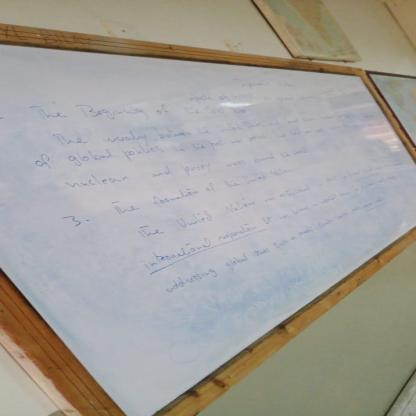Handwritten text: (147, 195, 341, 311), (128, 184, 320, 281), (125, 169, 323, 249), (58, 139, 285, 199), (60, 125, 274, 170), (94, 164, 246, 224), (44, 116, 220, 151), (28, 100, 237, 129)
